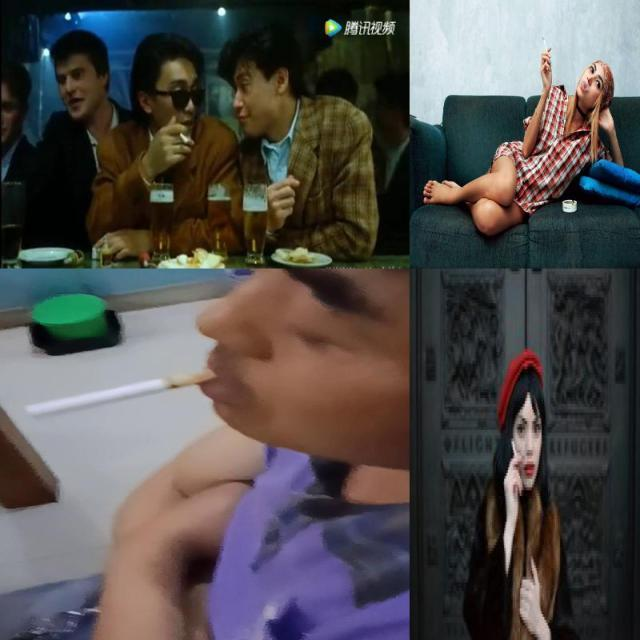smoking: (26, 369, 218, 418), (541, 35, 549, 58), (510, 439, 518, 460), (179, 132, 189, 146)
